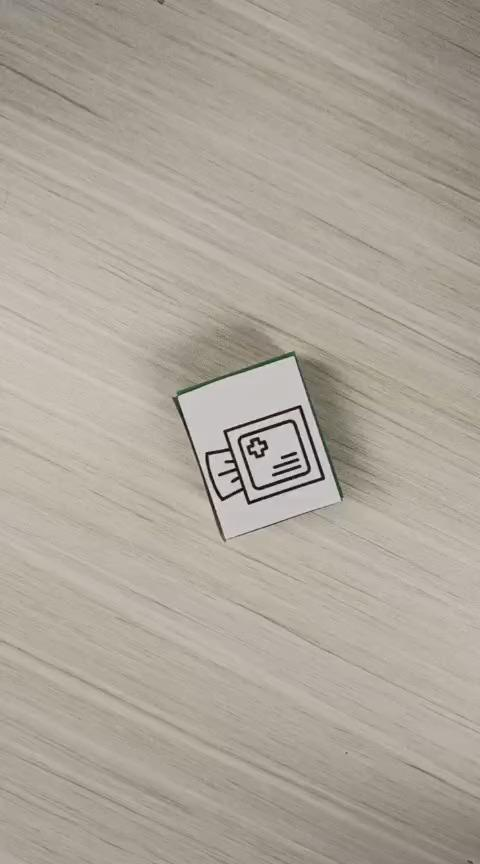Gauze: (172, 349, 343, 542)
